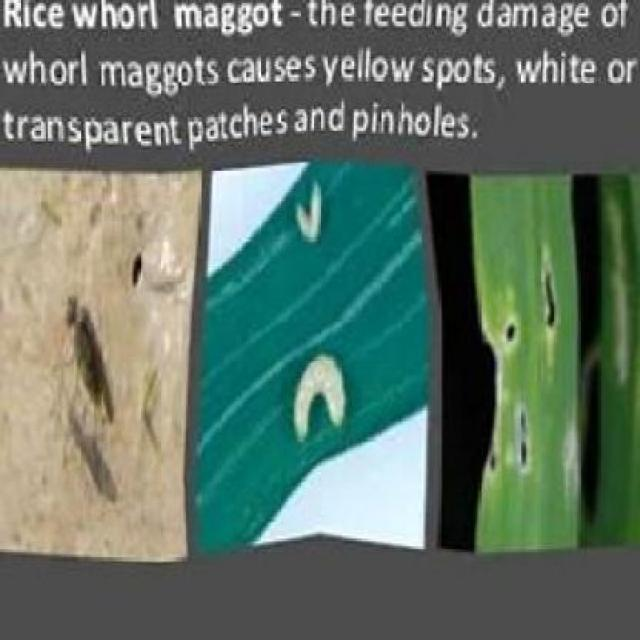whorl-maggot: (288, 346, 352, 443), (290, 182, 324, 242)
